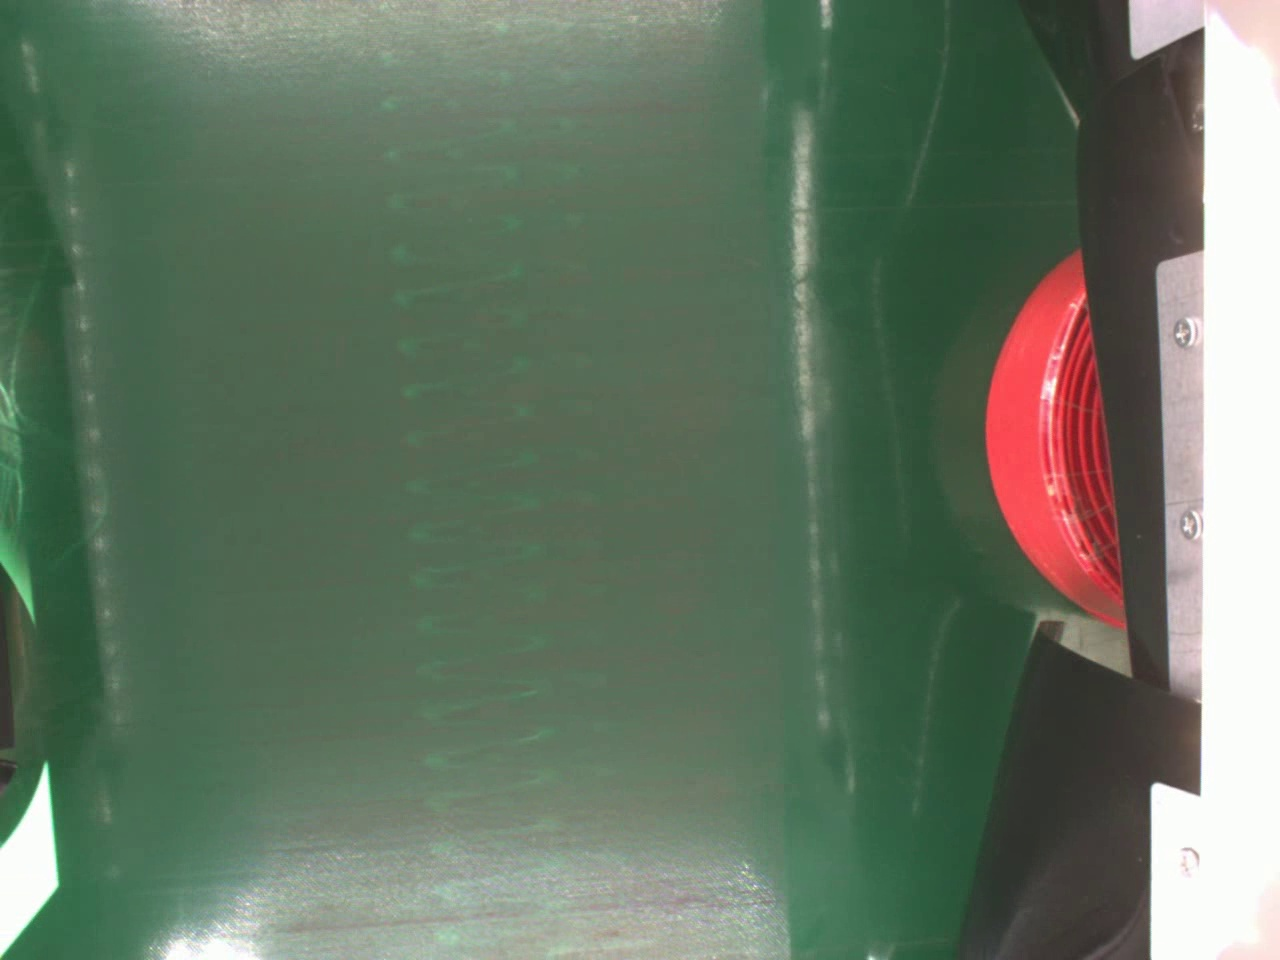red: (984, 237, 1128, 636)
